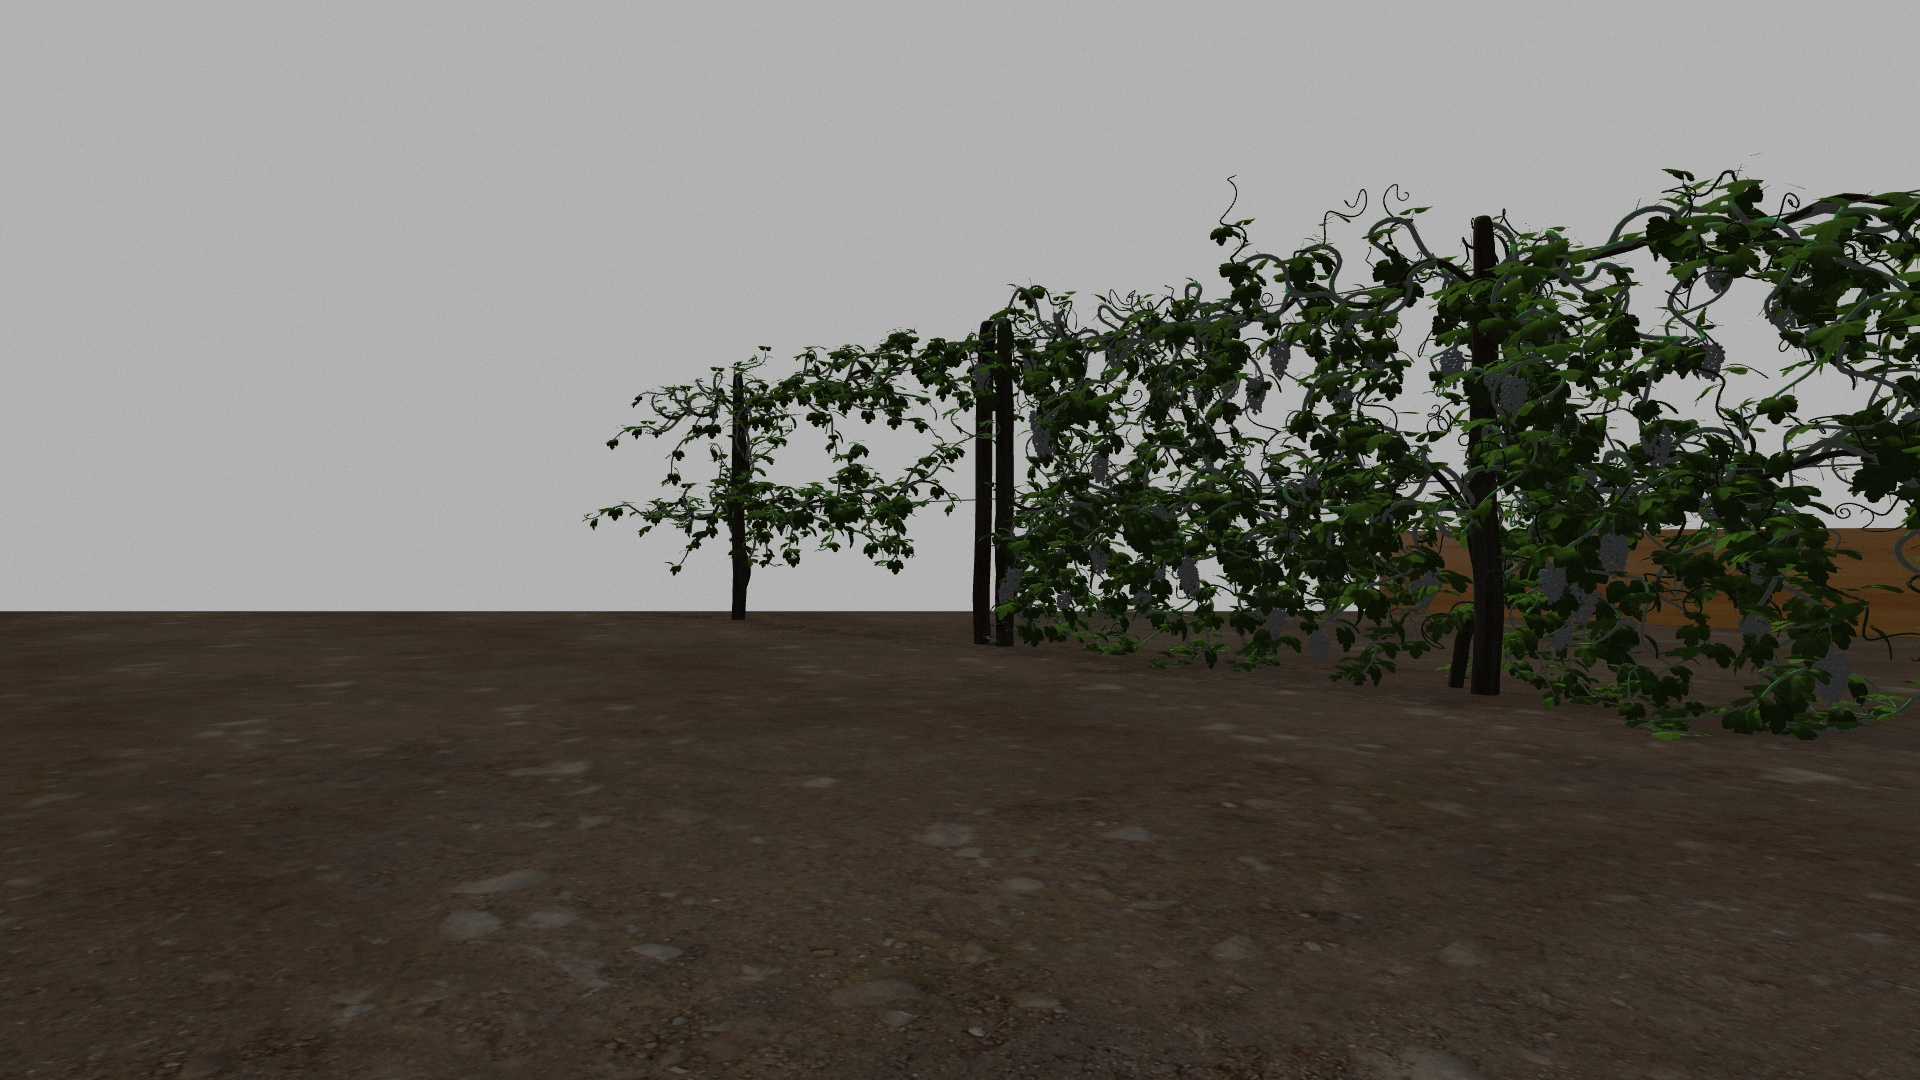grape: (1815, 650, 1851, 708), (1639, 423, 1675, 468), (1569, 582, 1600, 628), (1410, 568, 1443, 611), (1600, 534, 1629, 579), (1538, 563, 1567, 607), (1697, 340, 1726, 382), (1027, 411, 1051, 459), (1501, 376, 1528, 415), (1549, 615, 1575, 654), (1440, 349, 1465, 389), (1178, 556, 1201, 597), (1269, 340, 1292, 380), (1245, 376, 1267, 415), (1265, 603, 1287, 642), (1307, 629, 1331, 665), (1741, 612, 1771, 640), (1091, 452, 1110, 484), (973, 361, 992, 394), (1089, 545, 1108, 575), (1005, 566, 1022, 589), (1134, 587, 1153, 608), (998, 583, 1015, 605), (1058, 589, 1073, 613)
